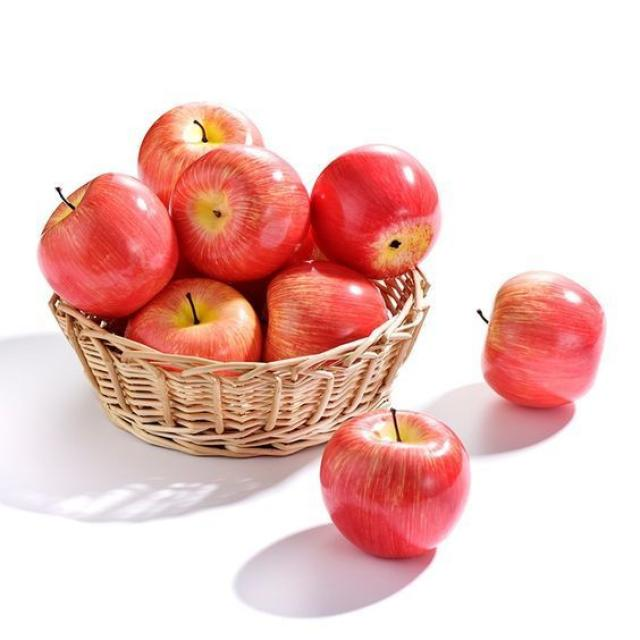apple: (320, 410, 469, 558), (38, 174, 178, 317), (171, 145, 308, 282), (311, 146, 440, 279), (483, 272, 604, 407), (139, 103, 263, 206), (265, 261, 388, 360), (125, 279, 262, 361), (289, 226, 326, 264)
